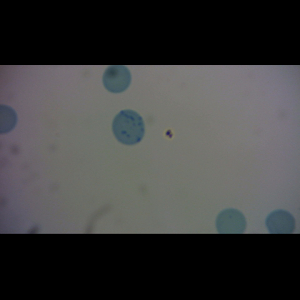aggregate reticulocyte: (111, 108, 146, 146)
erythrocyte: (102, 65, 133, 94), (215, 208, 248, 234), (265, 209, 296, 234)
